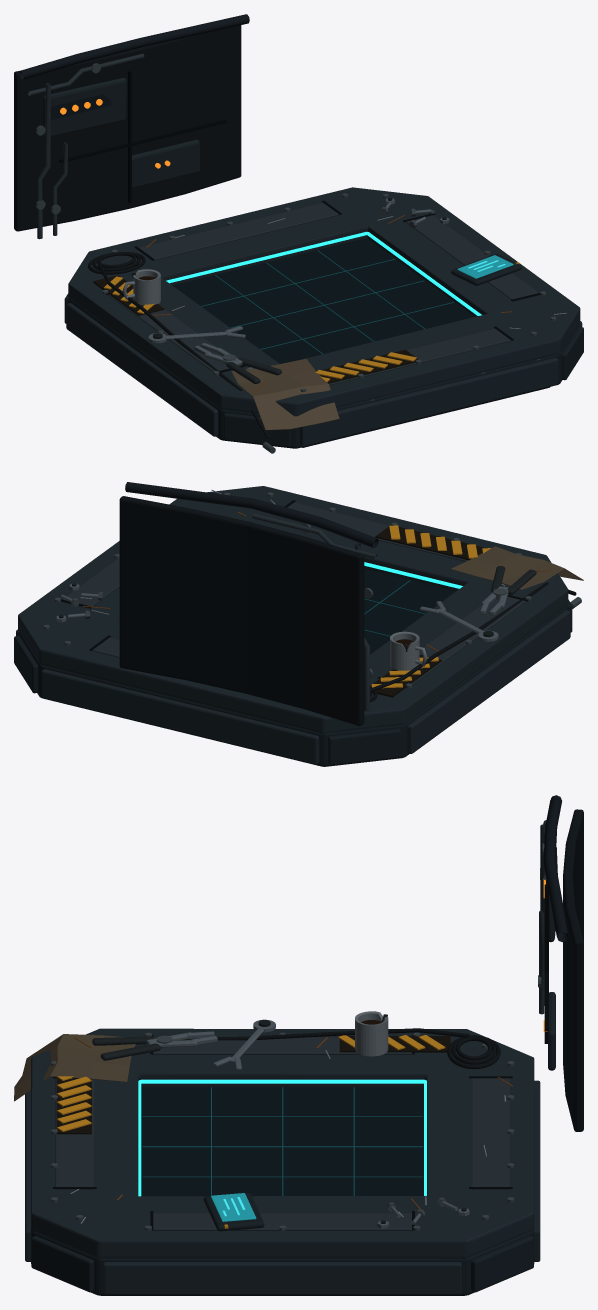
The model's file is salvage_table.glb.
The picture shows the model from 3 angles, top to bottom: view 1: azimuth 30°, elevation 25°; view 2: azimuth 150°, elevation 25°; view 3: azimuth 270°, elevation 25°; orthographic projection. The views are drawn at different scales.
Parts seen in each view (by area): view 1: table_top_octagonal_frame, cockpit_panel_curved, well_floor, side_armor_panel_5, side_armor_panel_3, dirty_rag, top_plate_back, cockpit_inset_upper, table_octagonal_core, cockpit_panel_upper_rib, top_plate_right, cockpit_inset_lower (+16 smaller); view 2: cockpit_panel_curved, table_top_octagonal_frame, side_armor_panel_1, side_armor_panel_3, well_floor, table_octagonal_core, cockpit_panel_upper_rib, dirty_rag, side_armor_panel_2, top_plate_left, top_plate_front, top_plate_right (+8 smaller); view 3: table_top_octagonal_frame, well_floor, side_armor_panel_7, cockpit_panel_curved, top_plate_back, top_plate_right, dirty_rag, table_octagonal_core, top_plate_left, top_plate_front, side_armor_panel_6, side_armor_panel_0 (+10 smaller).
Boxes of the visible parts, bbox=[...] form: table_top_octagonal_frame: bbox=[68, 187, 580, 416]; cockpit_panel_curved: bbox=[14, 25, 241, 231]; well_floor: bbox=[172, 238, 474, 363]; side_armor_panel_5: bbox=[300, 357, 558, 446]; side_armor_panel_3: bbox=[66, 303, 218, 436]; dirty_rag: bbox=[231, 358, 339, 430]; top_plate_back: bbox=[139, 203, 339, 259]; cockpit_inset_upper: bbox=[42, 78, 126, 138]; table_octagonal_core: bbox=[68, 298, 579, 448]; cockpit_panel_upper_rib: bbox=[19, 14, 249, 79]; top_plate_right: bbox=[406, 215, 539, 301]; cockpit_inset_lower: bbox=[132, 139, 199, 188]; cockpit_panel_curved: bbox=[119, 496, 364, 725]; table_top_octagonal_frame: bbox=[18, 486, 568, 733]; side_armor_panel_1: bbox=[41, 669, 319, 764]; side_armor_panel_3: bbox=[407, 610, 570, 753]; well_floor: bbox=[364, 569, 455, 654]; table_octagonal_core: bbox=[18, 605, 568, 766]; cockpit_panel_upper_rib: bbox=[125, 482, 378, 547]; dirty_rag: bbox=[451, 546, 583, 589]; side_armor_panel_2: bbox=[328, 728, 401, 765]; top_plate_left: bbox=[411, 596, 525, 684]; top_plate_front: bbox=[287, 502, 467, 561]; top_plate_right: bbox=[61, 558, 119, 608]; table_top_octagonal_frame: bbox=[31, 1028, 534, 1258]; well_floor: bbox=[141, 1087, 423, 1196]; side_armor_panel_7: bbox=[103, 1262, 461, 1294]; cockpit_panel_curved: bbox=[563, 809, 583, 1131]; top_plate_back: bbox=[471, 1078, 509, 1189]; top_plate_right: bbox=[153, 1213, 412, 1230]; dirty_rag: bbox=[14, 1034, 135, 1101]; table_octagonal_core: bbox=[31, 1228, 534, 1295]; top_plate_left: bbox=[152, 1037, 412, 1054]; top_plate_front: bbox=[55, 1078, 93, 1189]; side_armor_panel_6: bbox=[31, 1236, 94, 1292]; side_armor_panel_0: bbox=[471, 1236, 533, 1292].
Size of the model in its own units: 1.56 by 0.9655 by 1.7.
